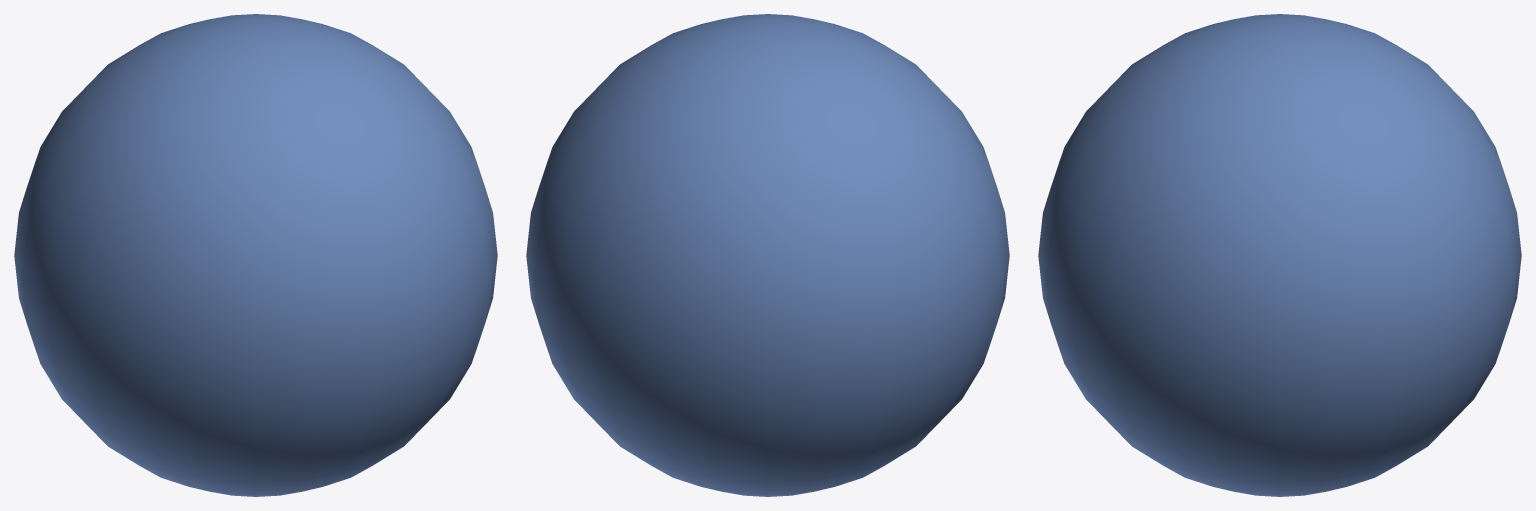
File: earth-network-globe-lod1.glb
3 views of the same model, side by side, from view 1: azimuth 30°, elevation 25°; view 2: azimuth 150°, elevation 25°; view 3: azimuth 270°, elevation 25° (orthographic).
Parts seen in each view (by area): view 1: Earth_Network_Globe_LOD1_Node; view 2: Earth_Network_Globe_LOD1_Node; view 3: Earth_Network_Globe_LOD1_Node.
Part boxes in pixels (<box>): Earth_Network_Globe_LOD1_Node: <box>14,14,497,496</box>; Earth_Network_Globe_LOD1_Node: <box>526,14,1009,496</box>; Earth_Network_Globe_LOD1_Node: <box>1038,14,1521,496</box>.
Bounding box in the file's own units: 6 × 6 × 6.
